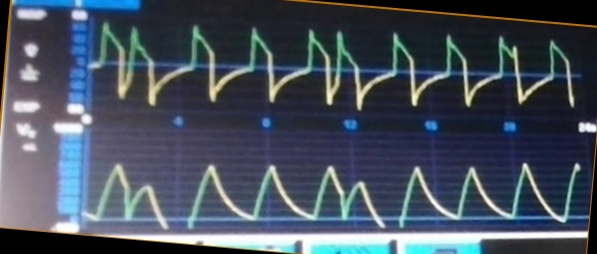Double_Triggering Flow: (92, 21, 548, 111)
Double_Triggering Volume: (86, 153, 562, 229)
